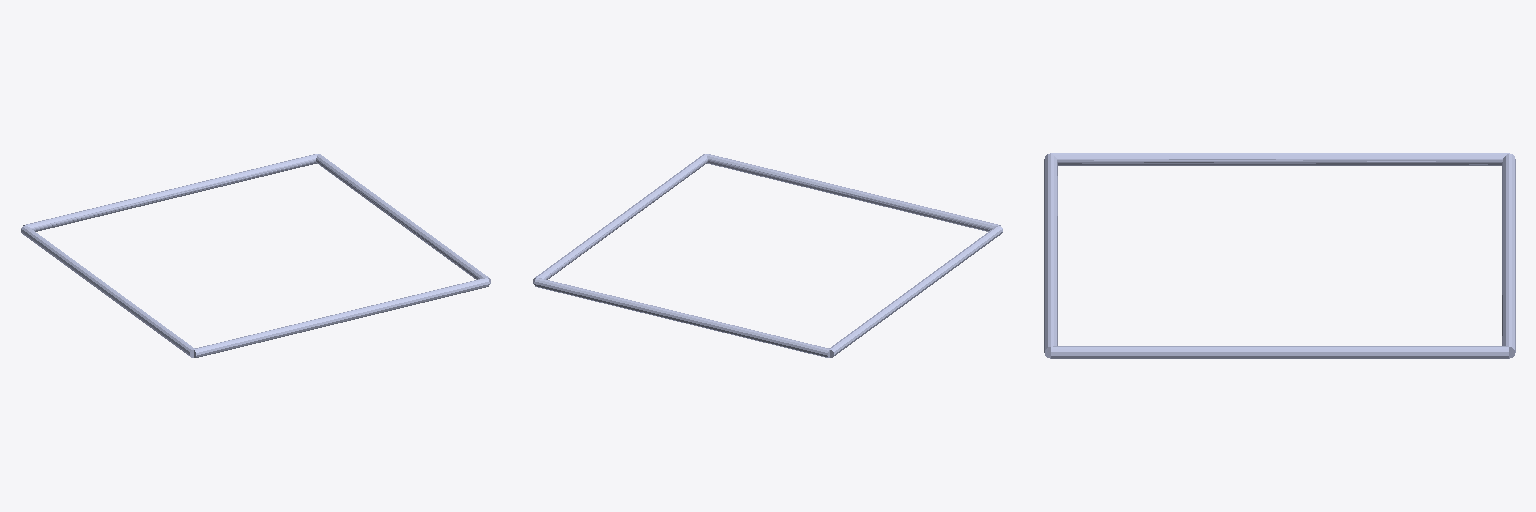
The robot description file, URDF, robot "starting_gates":
<?xml version="1.0"?>
<robot
  name="starting_gates">
  <link
    name="base_link">
    <inertial>
      <origin
        xyz="0.69 -1.6711E-06 2.1413E-16"
        rpy="0 0 0" />
      <mass
        value="0" />
      <inertia
        ixx="17.78"
        ixy="-1.5236E-10"
        ixz="0.000122"
        iyy="17.78"
        iyz="0.000122"
        izz="35.549" />
    </inertial>
    <visual>
      <origin
        xyz="0 0 0"
        rpy="0 0 0" />
      <geometry>
        <mesh
          filename="package://starting_gates/meshes/base_link.STL" />
      </geometry>
      <material
        name="">
        <color
          rgba="0.79216 0.81961 0.93333 1" />
      </material>
    </visual>
    <collision>
      <origin
        xyz="0 0 0"
        rpy="0 0 0" />
      <geometry>
        <mesh
          filename="package://starting_gates/meshes/base_link.STL" />
      </geometry>
    </collision>
  </link>
</robot>

--- What the picture shows (computed from the rendered views, not written in the file) ---
The picture shows the robot from 3 angles, left to right: view 1: azimuth 30°, elevation 25°; view 2: azimuth 150°, elevation 25°; view 3: azimuth 270°, elevation 25°; orthographic projection.
Model starting_gates with 1 links and 0 joints (none), rooted at base_link, posed all joints at 0.
Links seen in each view (by area): view 1: base_link; view 2: base_link; view 3: base_link.
Link boxes in pixels (left/top/right/bottom): base_link: left=21, top=154, right=490, bottom=357; base_link: left=533, top=154, right=1002, bottom=357; base_link: left=1044, top=153, right=1515, bottom=358.
Size in the robot's own frame: 1.44 by 1.44 by 0.04 metres.
1 mesh visuals loaded from 1 distinct referenced files (1 binary STL).